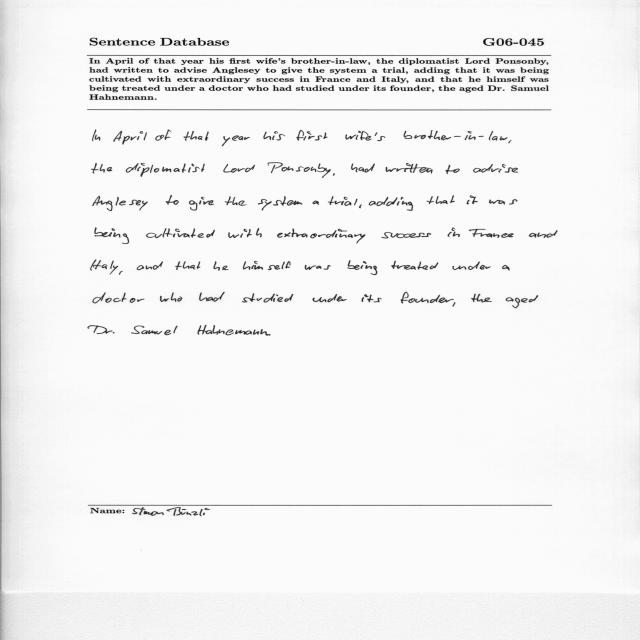word: (277, 229, 366, 244), (404, 130, 508, 141), (126, 163, 205, 177), (267, 163, 331, 178), (93, 196, 148, 211), (146, 228, 215, 238), (258, 196, 302, 211), (401, 292, 454, 304), (369, 197, 413, 211), (198, 326, 259, 336), (93, 293, 145, 304), (95, 228, 129, 244), (386, 163, 433, 174), (131, 326, 178, 336), (242, 294, 294, 303), (348, 260, 378, 275), (113, 131, 147, 144), (243, 261, 290, 270), (392, 261, 439, 270), (506, 295, 538, 308), (474, 164, 519, 173), (469, 229, 514, 238), (346, 131, 386, 141), (91, 260, 118, 274), (452, 261, 491, 270), (382, 232, 431, 239), (228, 228, 262, 238), (189, 197, 214, 210), (296, 130, 328, 140), (222, 136, 250, 147), (328, 196, 357, 206), (223, 164, 255, 173), (313, 294, 347, 302), (426, 196, 455, 205), (183, 131, 209, 141), (199, 292, 225, 302), (136, 261, 163, 270), (88, 325, 114, 334), (529, 230, 558, 238), (176, 261, 201, 270), (160, 292, 182, 302), (351, 164, 375, 173), (225, 196, 246, 206), (92, 163, 112, 173), (263, 132, 285, 141), (361, 294, 382, 303), (471, 294, 492, 303), (155, 130, 172, 141), (489, 199, 518, 205), (214, 261, 229, 271), (165, 195, 179, 205), (305, 265, 331, 270), (446, 165, 460, 174), (447, 228, 460, 237), (466, 196, 478, 205), (93, 130, 100, 141), (260, 329, 271, 336), (502, 265, 510, 270), (312, 200, 319, 205), (119, 271, 123, 275), (453, 302, 456, 307), (508, 140, 512, 143), (359, 205, 362, 209), (333, 173, 335, 176)
